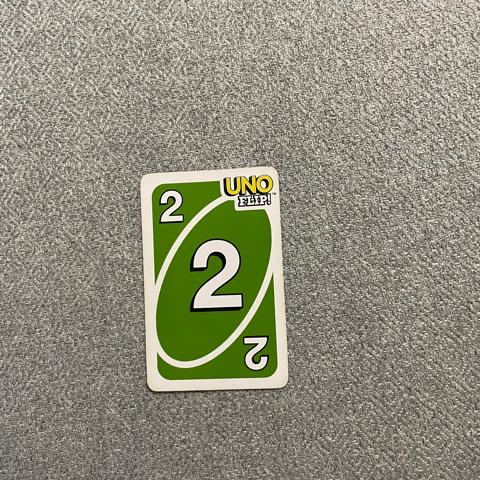0_red: (182, 237, 249, 313), (155, 186, 191, 227), (240, 332, 276, 373)
